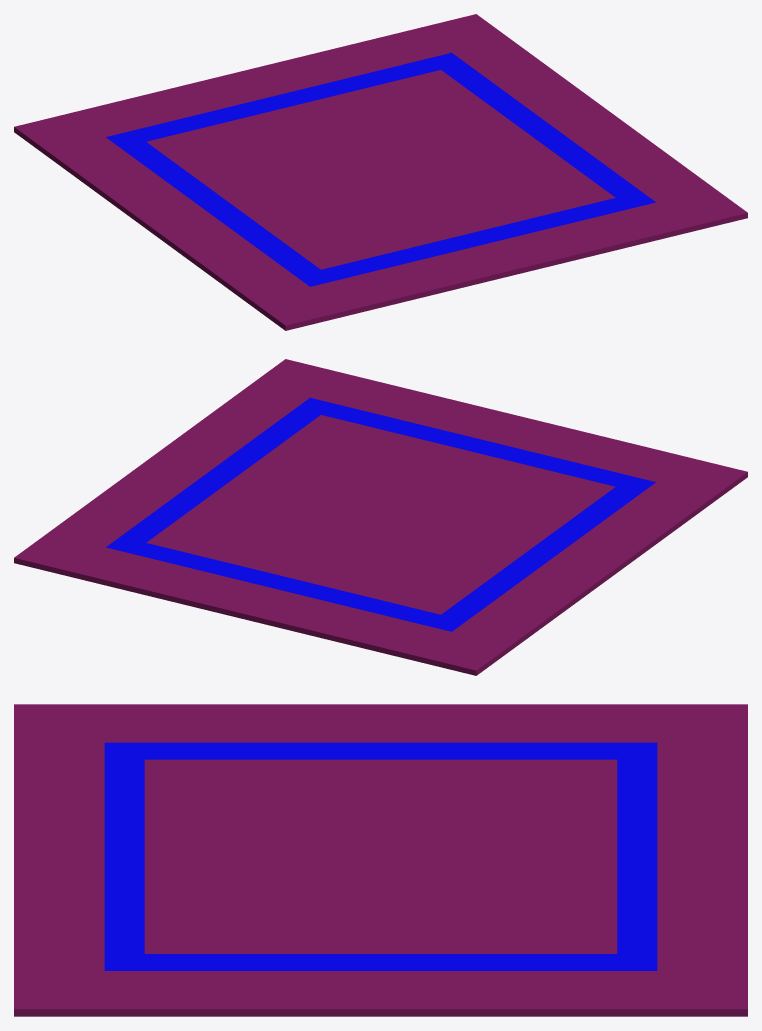
The model's file is rugSquare.glb.
3 views of the same model, one above another, from view 1: azimuth 30°, elevation 25°; view 2: azimuth 150°, elevation 25°; view 3: azimuth 270°, elevation 25° (orthographic). The views are drawn at different scales.
Visible parts, largest first — view 1: rugSquare; view 2: rugSquare; view 3: rugSquare.
Boxes of the visible parts, x1,y1,x2,y2 form: rugSquare: (14, 14, 747, 330); rugSquare: (14, 359, 747, 675); rugSquare: (14, 704, 747, 1016).
Bounding box in the file's own units: 1.93 × 0.0213 × 1.96.
